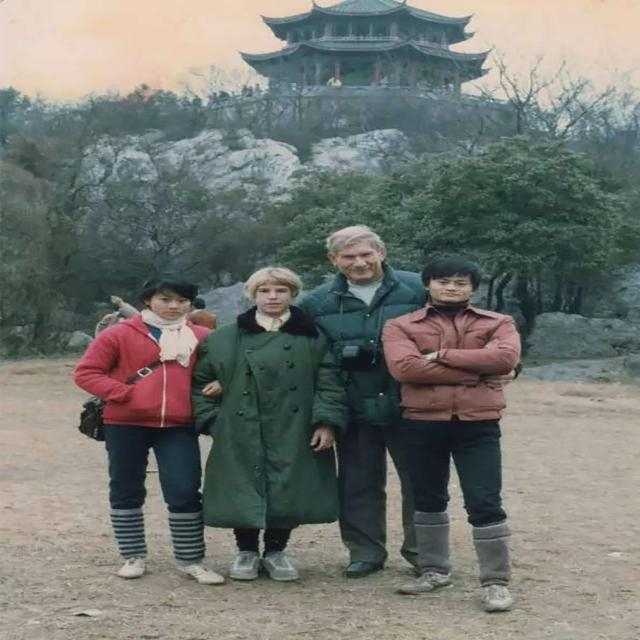body: (379, 253, 522, 614), (189, 264, 347, 584), (71, 270, 227, 587), (294, 224, 428, 580), (282, 72, 462, 94), (174, 83, 268, 106), (93, 294, 140, 338), (186, 296, 219, 332), (467, 90, 499, 109)
